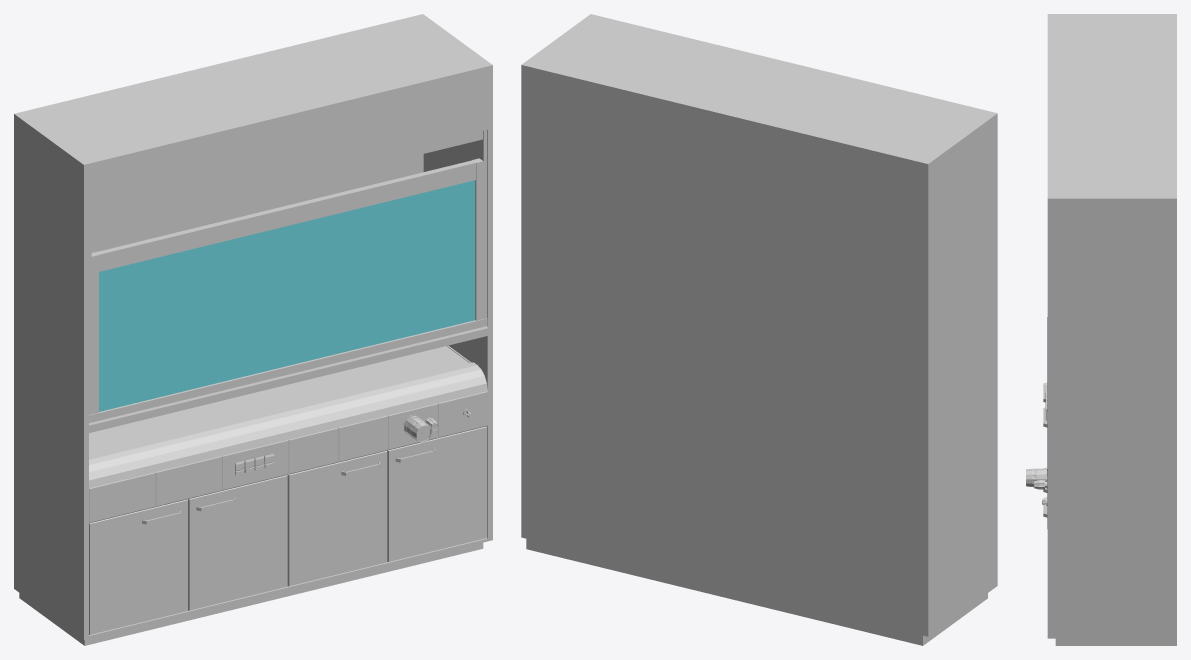
File: SM_Laboratory_Table.glb
3 renders of one model, left to right at view 1: azimuth 30°, elevation 25°; view 2: azimuth 150°, elevation 25°; view 3: azimuth 270°, elevation 25°, orthographic. The views are drawn at different scales.
Visible parts, largest first — view 1: SM_Laboratory_Table, SM_Door_For_Laboratory_Table_03, SM_Door_For_Laboratory_Table_02, SM_Door_For_Laboratory_Table_04, SM_Door_For_Laboratory_Table_01; view 2: SM_Laboratory_Table; view 3: SM_Laboratory_Table.
Part boxes in pixels (<box>): SM_Laboratory_Table: <box>14,14,492,645</box>; SM_Door_For_Laboratory_Table_03: <box>287,450,387,586</box>; SM_Door_For_Laboratory_Table_02: <box>188,475,287,610</box>; SM_Door_For_Laboratory_Table_04: <box>387,426,486,561</box>; SM_Door_For_Laboratory_Table_01: <box>89,499,187,634</box>; SM_Laboratory_Table: <box>521,14,997,645</box>; SM_Laboratory_Table: <box>1026,14,1176,645</box>.
Size of the model in its own units: 2.03 by 2.3 by 0.6996.
